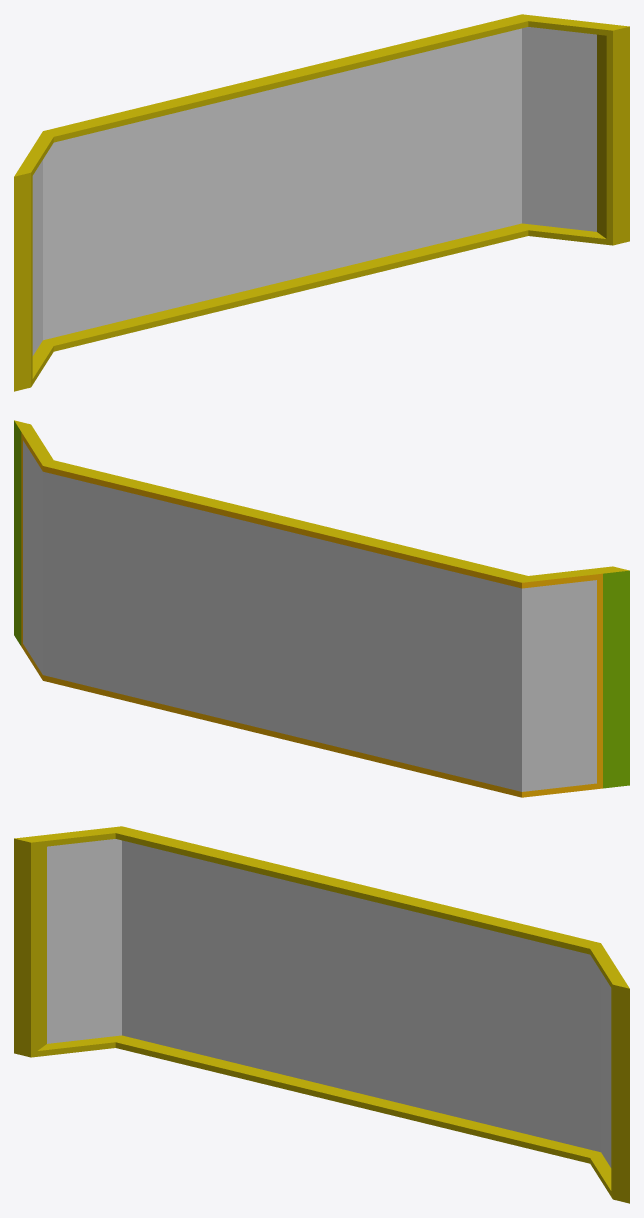
Rendered from window_panoramic_9x1x3.dae.
3 views of the same model, one above another, from view 1: azimuth 30°, elevation 25°; view 2: azimuth 150°, elevation 25°; view 3: azimuth 330°, elevation 25° (orthographic).
Parts seen in each view (by area): view 1: Cube; view 2: Cube; view 3: Cube.
Part boxes in pixels (x1,y1,x2,y2): Cube: [14, 14, 629, 391]; Cube: [14, 420, 629, 797]; Cube: [14, 826, 629, 1203].
Size of the model in its own units: 2.25 by 0.25 by 0.75.
